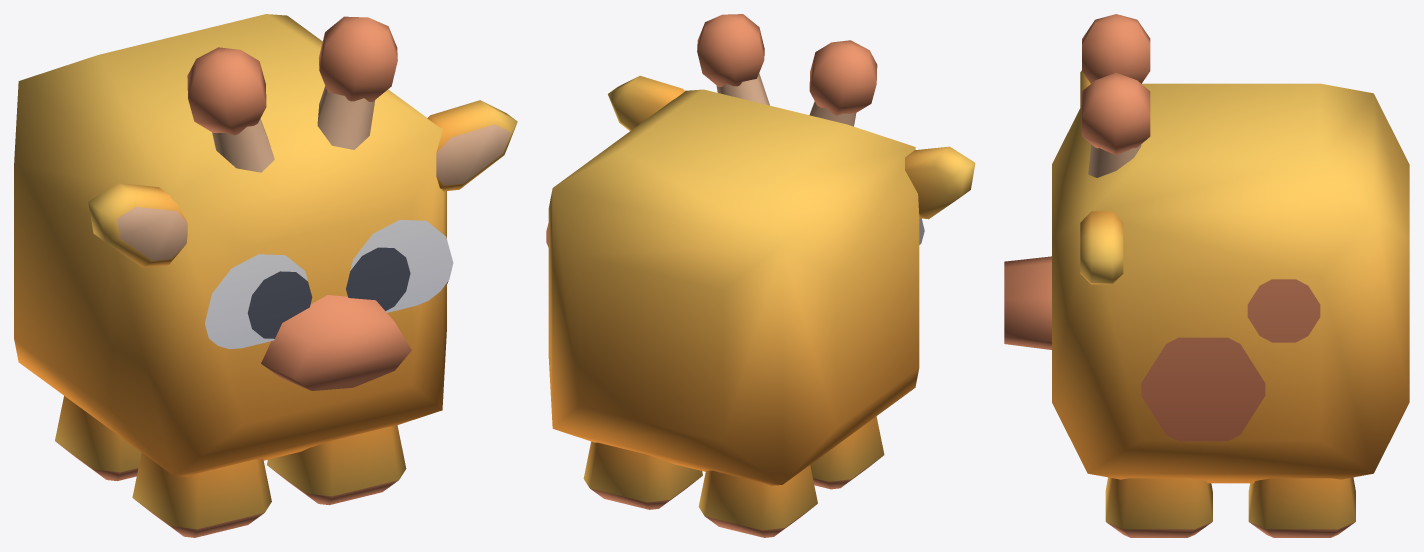
File: animal-giraffe.obj
3 views of the same model, side by side, from view 1: azimuth 30°, elevation 25°; view 2: azimuth 150°, elevation 25°; view 3: azimuth 270°, elevation 25° (orthographic). The views are drawn at different scales.
Visible parts, largest first — view 1: body, leg-front-right, leg-front-left, leg-back-right; view 2: body, leg-back-right, leg-back-left, leg-front-right; view 3: body, leg-back-left, leg-front-left.
Boxes of the visible parts, x1,y1,x2,y2 form: body: (14, 14, 517, 476); leg-front-right: (132, 453, 271, 537); leg-front-left: (267, 425, 406, 505); leg-back-right: (55, 396, 141, 481); body: (546, 14, 975, 485); leg-back-right: (698, 465, 817, 537); leg-back-left: (583, 441, 702, 509); leg-front-right: (810, 416, 884, 489); body: (1004, 14, 1409, 483); leg-back-left: (1248, 477, 1355, 537); leg-front-left: (1105, 477, 1212, 537).
Size of the model in its own units: 1.56 by 1.71 by 1.42.
